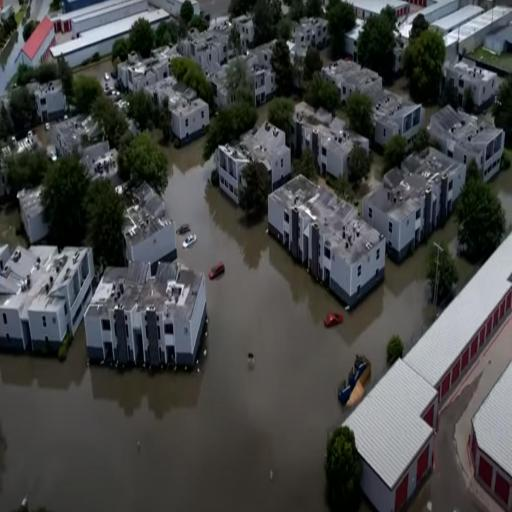flood: (0, 137, 458, 511), (445, 213, 484, 293), (490, 163, 512, 233)
house: (340, 354, 446, 512), (269, 172, 387, 310), (85, 262, 208, 380), (363, 143, 467, 264), (0, 242, 96, 359), (51, 2, 174, 76), (216, 122, 291, 210), (433, 102, 507, 186), (471, 358, 511, 512), (296, 108, 369, 180), (116, 180, 180, 259), (321, 59, 383, 109), (15, 18, 56, 85), (374, 99, 426, 150), (174, 82, 211, 144), (248, 50, 277, 106)
